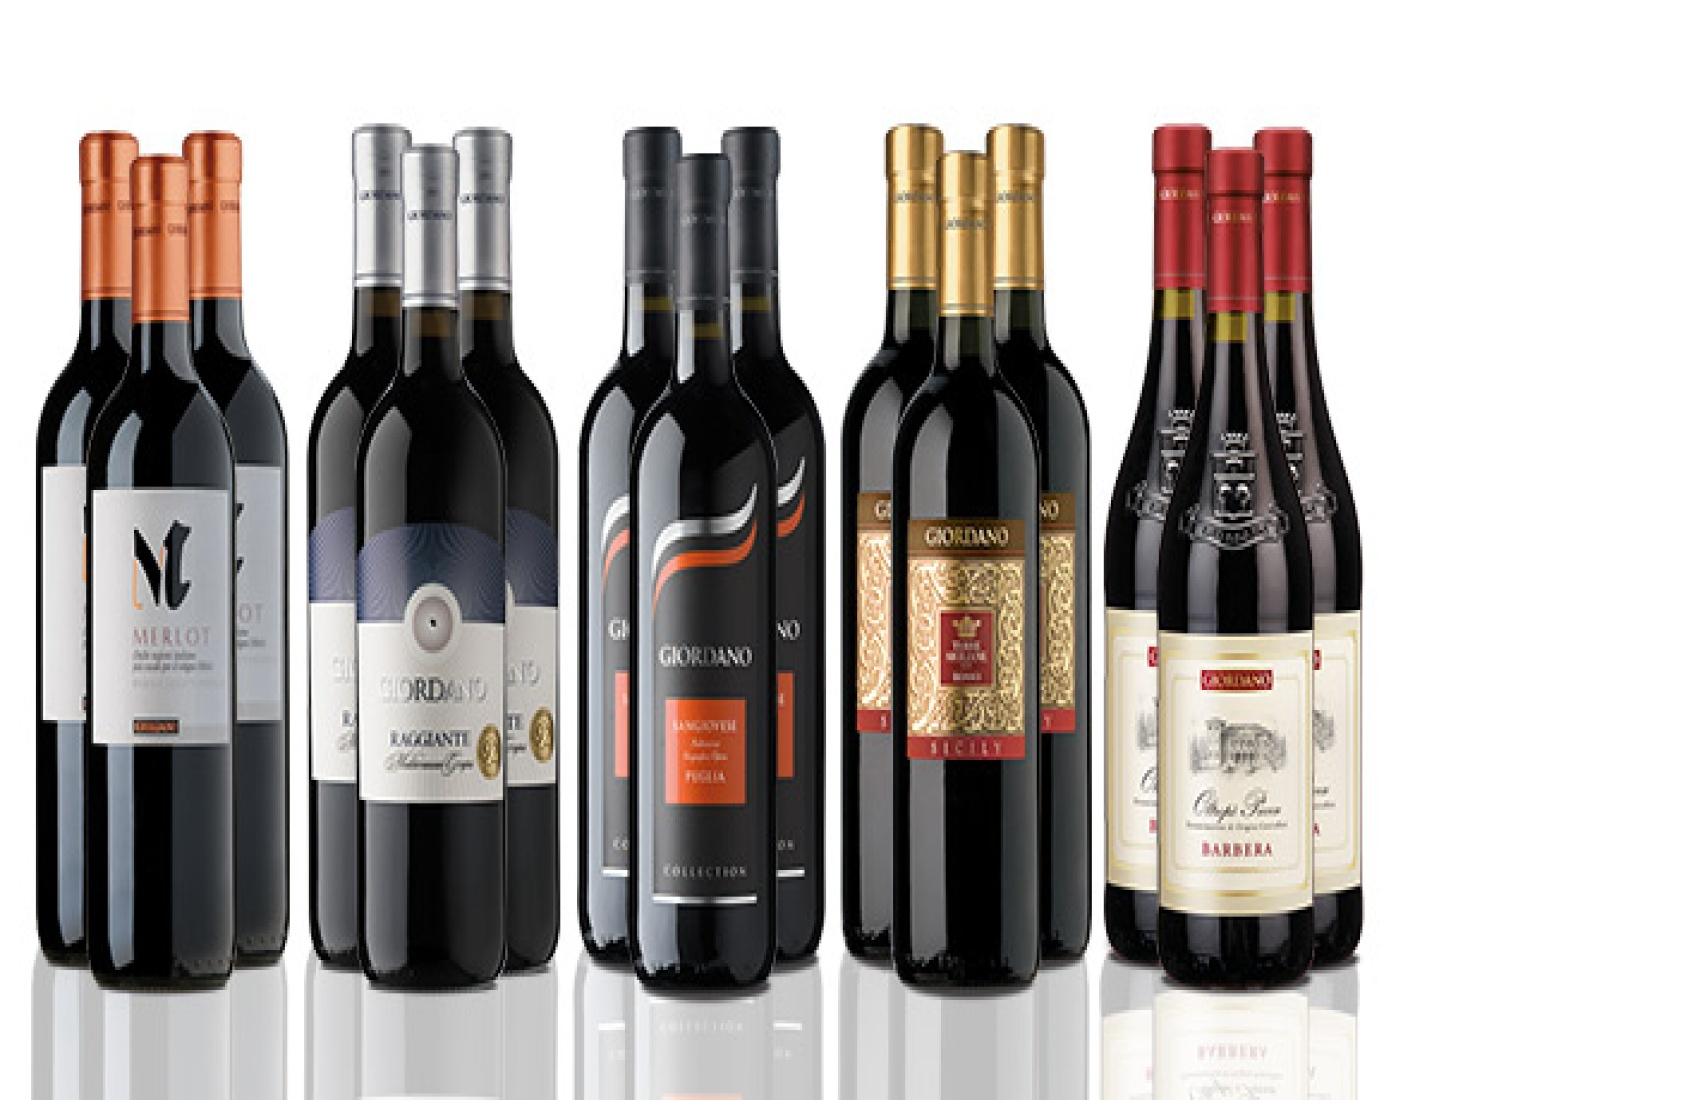wine: (1161, 168, 1316, 971), (352, 173, 507, 975), (82, 180, 237, 981), (634, 190, 768, 984), (903, 186, 1036, 979)
